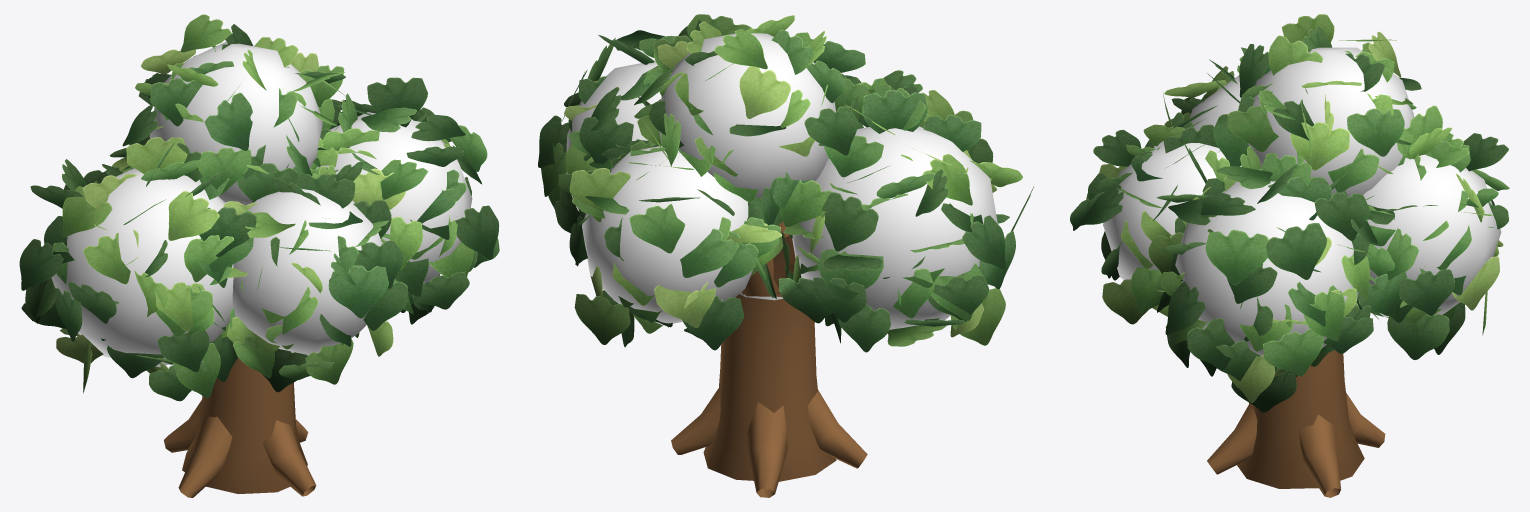
File: tree-wide-summer.glb
The picture shows the model from 3 angles, left to right: view 1: azimuth 30°, elevation 25°; view 2: azimuth 150°, elevation 25°; view 3: azimuth 270°, elevation 25°; orthographic projection. The views are drawn at different scales.
Parts seen in each view (by area): view 1: Crown, Hull, Trunk; view 2: Crown, Hull, Trunk; view 3: Crown, Hull, Trunk.
Part boxes in pixels (x1,y1,x2,y2): Crown: [19, 14, 499, 401]; Hull: [51, 41, 472, 367]; Trunk: [164, 357, 316, 497]; Crown: [538, 14, 1033, 352]; Hull: [566, 33, 997, 329]; Trunk: [671, 221, 867, 497]; Crown: [1070, 14, 1509, 412]; Hull: [1103, 47, 1501, 355]; Trunk: [1207, 350, 1385, 497].
Bounding box in the file's own units: 3.6 × 3.27 × 3.12.
4 materials, 1 textured.
